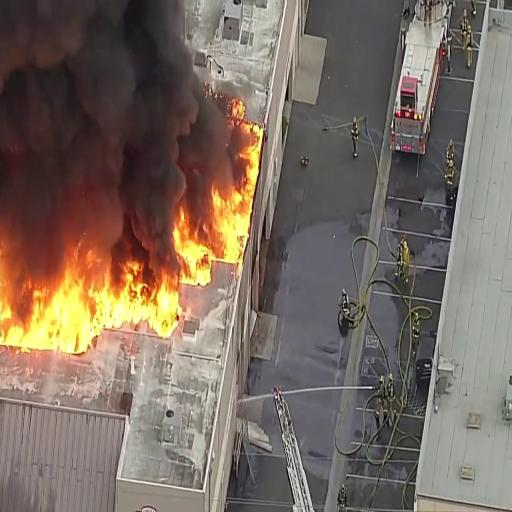fire: (58, 252, 186, 346), (207, 116, 258, 263), (0, 259, 93, 332), (170, 205, 214, 286)
smoke: (0, 0, 169, 247)
